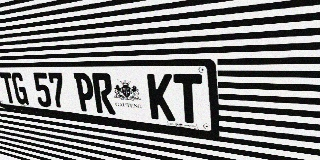5: (33, 72, 53, 108)
7: (47, 73, 68, 109)
G: (11, 72, 29, 105)
K: (147, 74, 175, 121)
P: (73, 73, 96, 113)
R: (91, 73, 116, 115)
T: (173, 74, 204, 125), (0, 72, 17, 104)
